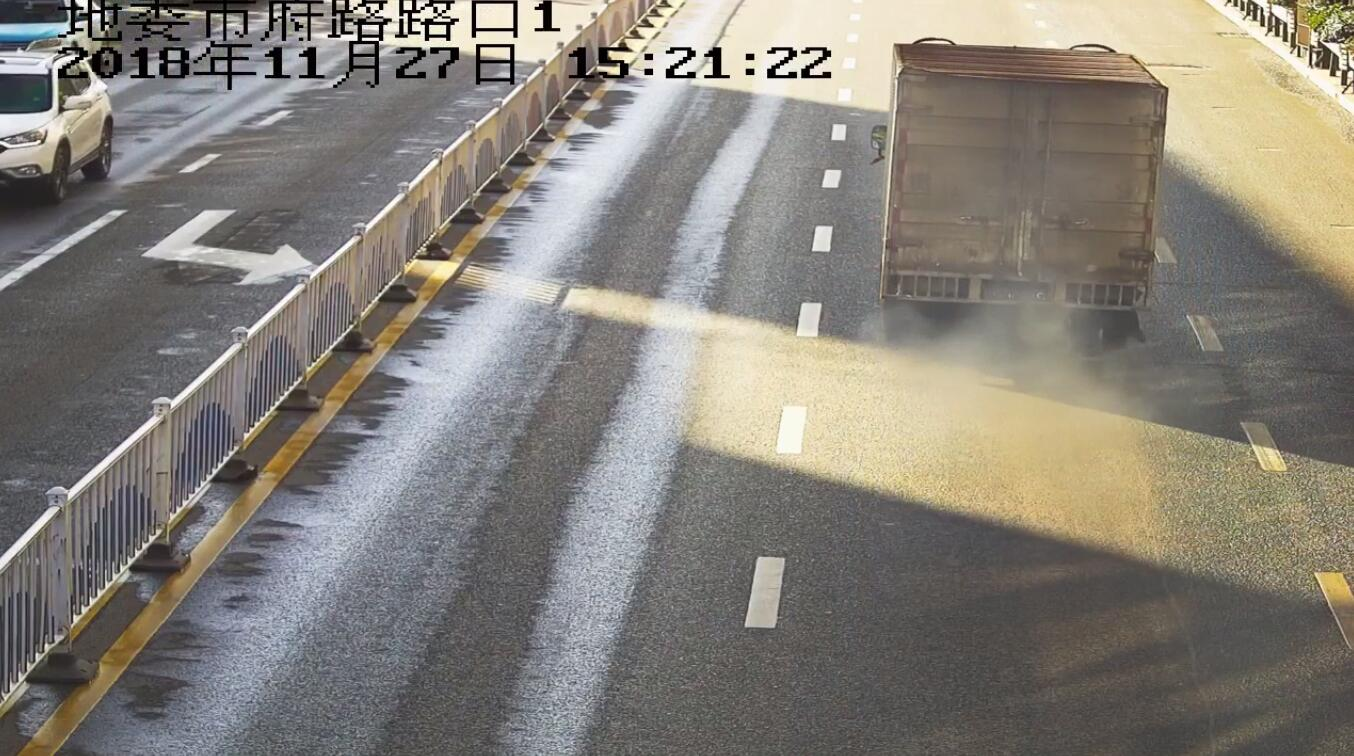smoke: (884, 286, 1147, 415)
